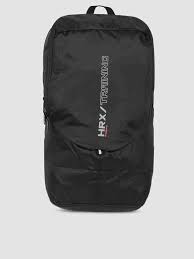backpack: (42, 4, 155, 212)
